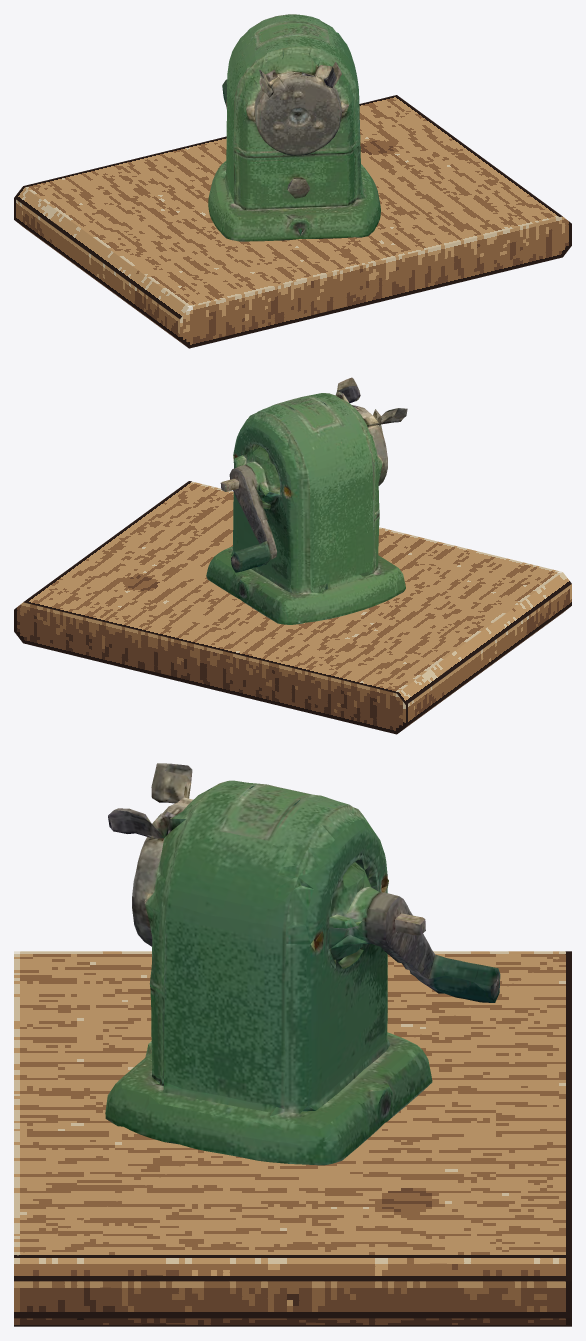
File: kezuri.glb
3 views of the same model, one above another, from view 1: azimuth 30°, elevation 25°; view 2: azimuth 150°, elevation 25°; view 3: azimuth 270°, elevation 25° (orthographic). The views are drawn at different scales.
Parts seen in each view (by area): view 1: base, model_m; view 2: base, model_m; view 3: base, model_m.
Boxes of the visible parts, box(x1,y1,x2,y2) form: base: box(14, 95, 571, 348); model_m: box(208, 14, 380, 241); base: box(14, 481, 571, 734); model_m: box(206, 377, 407, 624); base: box(14, 951, 571, 1326); model_m: box(105, 763, 500, 1165).
Bounding box in the file's own units: 30 × 16.16 × 22.
Materials: 2 (2 with a texture image).
